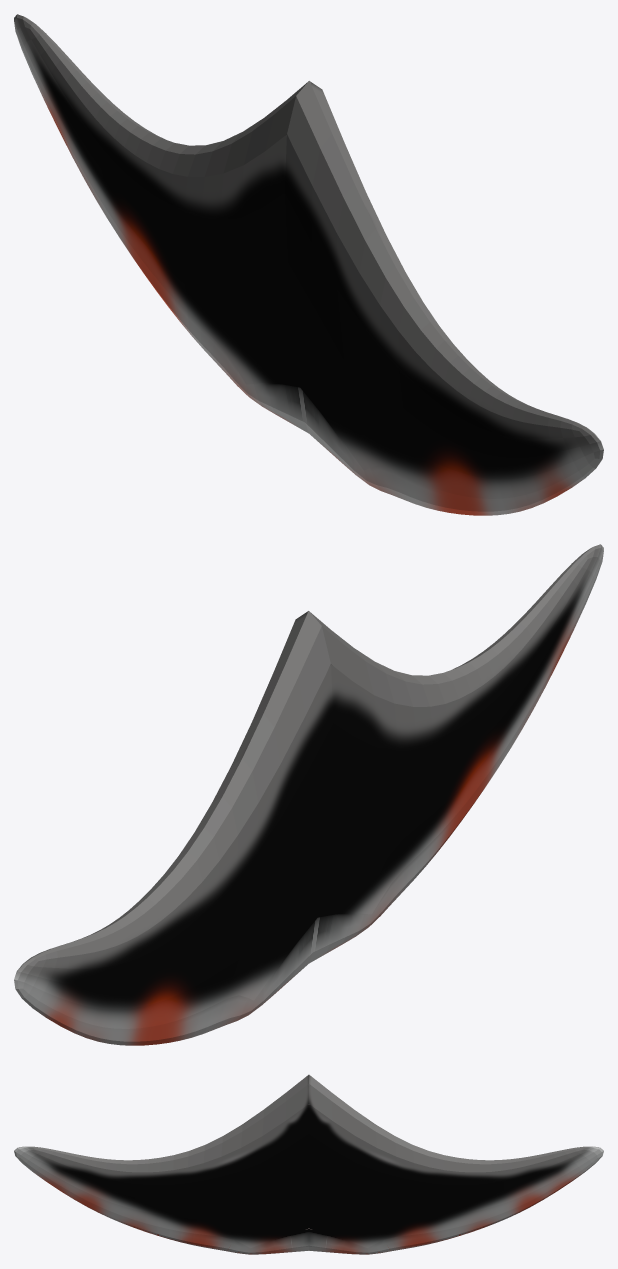
The model's file is Blade.fbx.
3 views of the same model, one above another, from view 1: azimuth 30°, elevation 25°; view 2: azimuth 150°, elevation 25°; view 3: azimuth 270°, elevation 25° (orthographic). The views are drawn at different scales.
Visible parts, largest first — view 1: Cube; view 2: Cube; view 3: Cube.
Part boxes in pixels (bbox=[...]): Cube: bbox=[14, 14, 603, 515]; Cube: bbox=[14, 544, 603, 1045]; Cube: bbox=[14, 1074, 603, 1254].
Bounding box in the file's own units: 0.2671 × 1.87 × 5.56.
